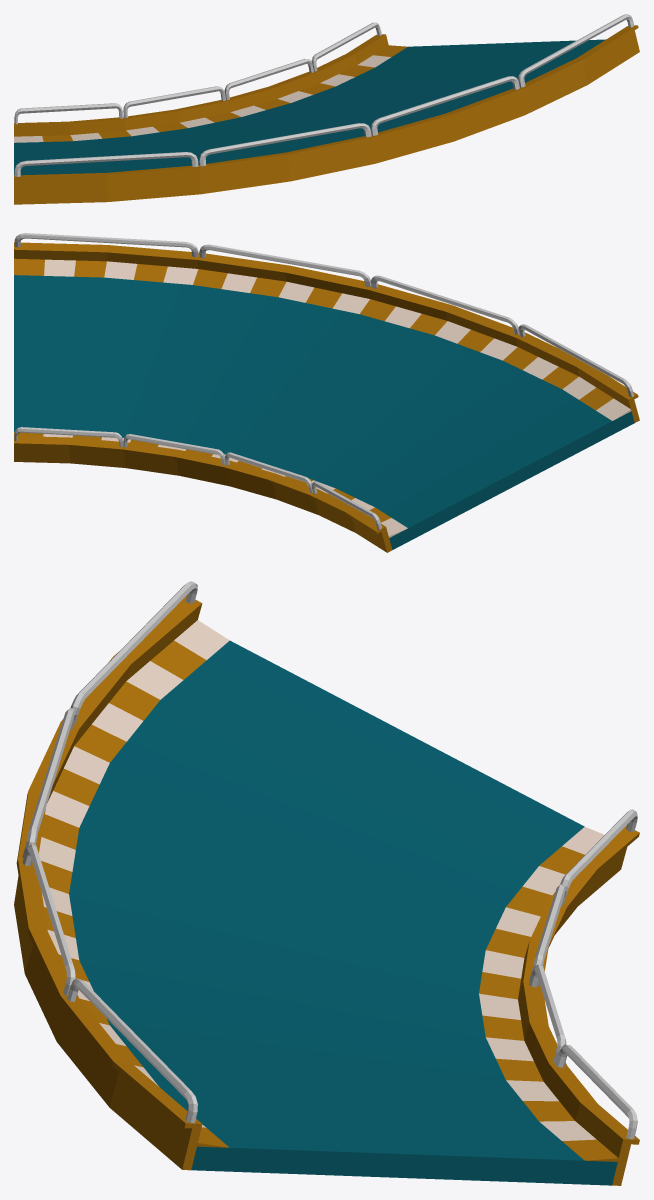
The model's file is bankedLeft-60-15_m.FBX.
3 renders of one model, top to bottom at view 1: azimuth 30°, elevation 25°; view 2: azimuth 150°, elevation 25°; view 3: azimuth 270°, elevation 25°, orthographic. The views are drawn at different scales.
Parts seen in each view (by area): view 1: bankedLeft-60-15_m, wall_r, wall_l, curbs_l; view 2: bankedLeft-60-15_m, wall_r, wall_l, curbs_r, curbs_l; view 3: bankedLeft-60-15_m, wall_r, curbs_r, wall_l, curbs_l.
Boxes of the visible parts, x1=… form: bankedLeft-60-15_m: x1=14, y1=39, x2=605, y2=175; wall_r: x1=14, y1=14, x2=639, y2=204; wall_l: x1=14, y1=22, x2=388, y2=136; curbs_l: x1=14, y1=45, x2=407, y2=142; bankedLeft-60-15_m: x1=14, y1=275, x2=634, y2=549; wall_r: x1=14, y1=233, x2=639, y2=422; wall_l: x1=14, y1=427, x2=392, y2=552; curbs_r: x1=14, y1=258, x2=631, y2=420; curbs_l: x1=14, y1=432, x2=407, y2=537; bankedLeft-60-15_m: x1=69, y1=640, x2=617, y2=1185; wall_r: x1=14, y1=581, x2=202, y2=1170; curbs_r: x1=39, y1=620, x2=229, y2=1147; wall_l: x1=518, y1=809, x2=639, y2=1185; curbs_l: x1=479, y1=827, x2=618, y2=1161.
Size of what is drawn, in the model's own units: 479 by 80.3 by 239.
